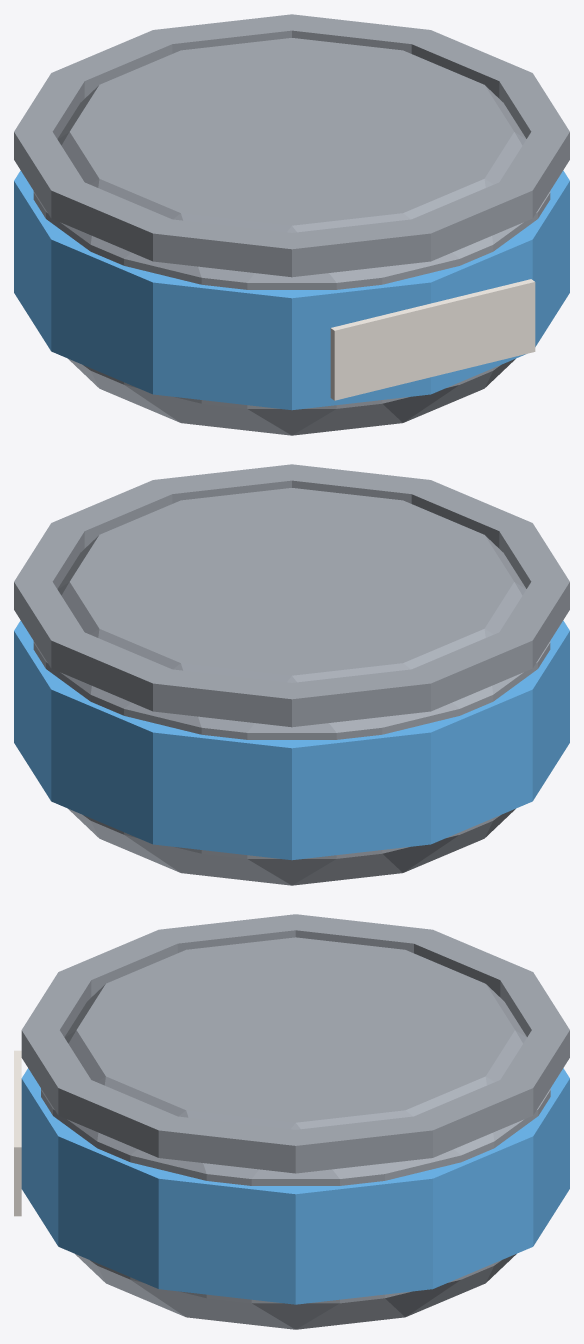
The model's file is CatCafe_Item_TunaCan.glb.
3 renders of one model, top to bottom at view 1: azimuth 30°, elevation 25°; view 2: azimuth 150°, elevation 25°; view 3: azimuth 270°, elevation 25°, orthographic.
Visible parts, largest first — view 1: CatCafe_Item_TunaCan; view 2: CatCafe_Item_TunaCan; view 3: CatCafe_Item_TunaCan.
Boxes of the visible parts, x1=… form: CatCafe_Item_TunaCan: x1=14, y1=14, x2=569, y2=435; CatCafe_Item_TunaCan: x1=14, y1=464, x2=569, y2=885; CatCafe_Item_TunaCan: x1=14, y1=914, x2=569, y2=1329.
Bounding box in the file's own units: 0.72 × 0.3 × 0.73.
1 material, 1 textured.
